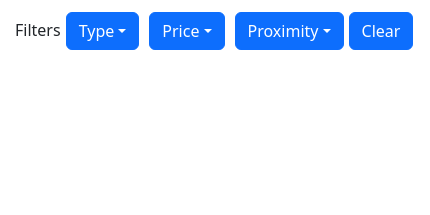
Scenario: Successfully renders filters component › Renders correct options for price drop down
Click the button "Price".
click(187, 31)  # box [149,12,224,50]
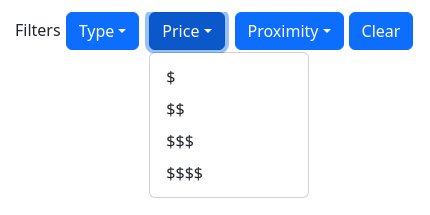
Check: the button "$" is shown, box [166,66,176,88]
Check: the button "$$" is shown, box [166,98,185,120]
Check: the button "$$$" is shown, box [166,130,194,152]
